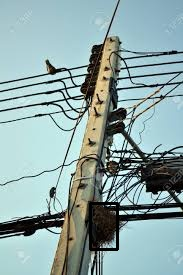bird-nest: (90, 203, 117, 249)
